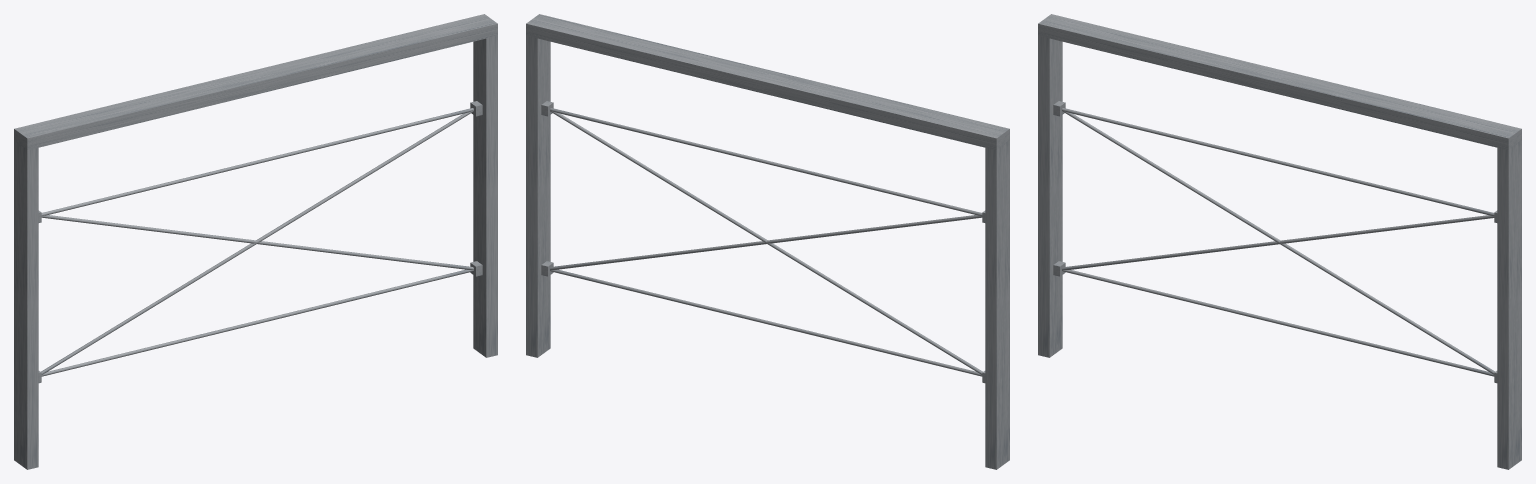
Rendered from cerca-01.obj.
3 renders of one model, left to right at view 1: azimuth 30°, elevation 25°; view 2: azimuth 150°, elevation 25°; view 3: azimuth 330°, elevation 25°, orthographic.
Parts seen in each view (by area): view 1: Box012, Box011, Box010, Cylinder007, Cylinder004, Cylinder006, Cylinder005; view 2: Box012, Box011, Box010, Cylinder007, Cylinder004, Cylinder006, Cylinder005; view 3: Box012, Box010, Box011, Cylinder005, Cylinder004, Cylinder006, Cylinder007.
Part boxes in pixels (x1,y1,x2,y2): Box012: [14, 14, 497, 149]; Box011: [14, 140, 38, 469]; Box010: [473, 35, 497, 357]; Cylinder007: [41, 110, 473, 374]; Cylinder004: [41, 108, 473, 215]; Cylinder006: [41, 269, 473, 376]; Cylinder005: [41, 215, 473, 269]; Box012: [526, 14, 1009, 149]; Box011: [985, 140, 1009, 469]; Box010: [526, 35, 550, 357]; Cylinder007: [550, 110, 982, 374]; Cylinder004: [550, 108, 982, 215]; Cylinder006: [550, 269, 982, 376]; Cylinder005: [550, 215, 982, 269]; Box012: [1038, 14, 1521, 149]; Box010: [1497, 140, 1521, 469]; Box011: [1038, 35, 1062, 357]; Cylinder005: [1062, 110, 1495, 374]; Cylinder004: [1062, 108, 1494, 215]; Cylinder006: [1062, 270, 1494, 376]; Cylinder007: [1062, 215, 1494, 269].
Bounding box in the file's own units: 61.5 × 41.4 × 3.
